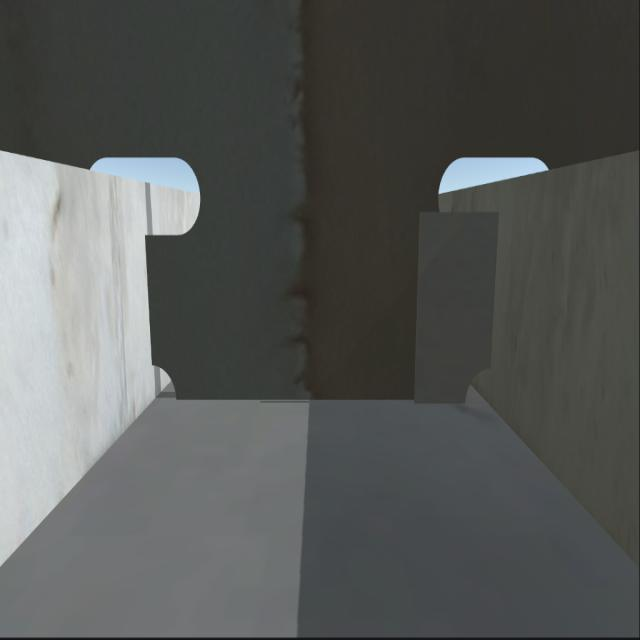fillet_hole: (459, 358, 494, 408), (148, 362, 181, 403)
fillet_yong_jeop_jang: (179, 392, 461, 410)
longi_yong_jeop_jang: (485, 214, 503, 356), (141, 234, 158, 372)
plate_CP01: (416, 217, 498, 400)
